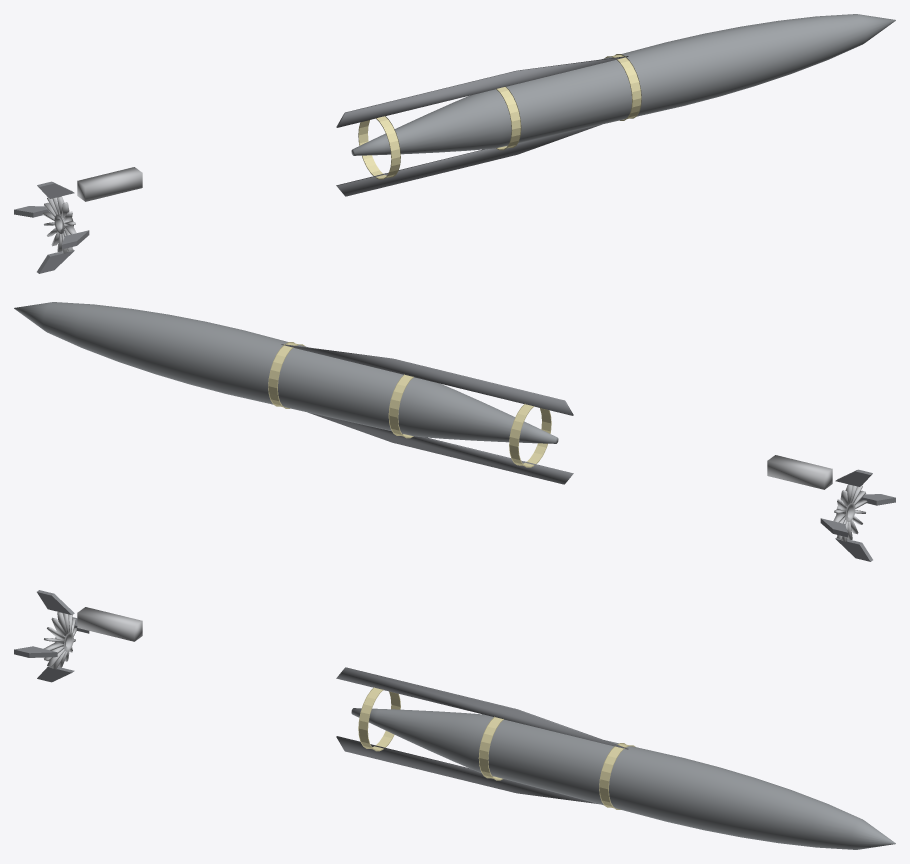
The model's file is RU_TORP_TEST71_LOD1.fbx.
The picture shows the model from 3 angles, top to bottom: view 1: azimuth 30°, elevation 25°; view 2: azimuth 150°, elevation 25°; view 3: azimuth 330°, elevation 25°; orthographic projection.
Visible parts, largest first — view 1: WPN_RU_TORP_TEST71_LOD1_Body, WPN_RU_TORP_TEST71_LOD1_Detail, WPN_RU_TORP_TEST71_LOD1_Marking, WPN_RU_TORP_TEST71_LOD1_Fins, WPN_RU_TORP_TEST71_LOD1_Propulsor; view 2: WPN_RU_TORP_TEST71_LOD1_Body, WPN_RU_TORP_TEST71_LOD1_Detail, WPN_RU_TORP_TEST71_LOD1_Marking, WPN_RU_TORP_TEST71_LOD1_Fins, WPN_RU_TORP_TEST71_LOD1_Propulsor; view 3: WPN_RU_TORP_TEST71_LOD1_Body, WPN_RU_TORP_TEST71_LOD1_Detail, WPN_RU_TORP_TEST71_LOD1_Marking, WPN_RU_TORP_TEST71_LOD1_Fins, WPN_RU_TORP_TEST71_LOD1_Propulsor.
Boxes of the visible parts, left/top/right/bottom form: WPN_RU_TORP_TEST71_LOD1_Body: left=351, top=14, right=895, bottom=155; WPN_RU_TORP_TEST71_LOD1_Detail: left=77, top=56, right=628, bottom=201; WPN_RU_TORP_TEST71_LOD1_Marking: left=358, top=54, right=641, bottom=179; WPN_RU_TORP_TEST71_LOD1_Fins: left=14, top=181, right=89, bottom=273; WPN_RU_TORP_TEST71_LOD1_Propulsor: left=42, top=196, right=76, bottom=253; WPN_RU_TORP_TEST71_LOD1_Body: left=14, top=302, right=558, bottom=443; WPN_RU_TORP_TEST71_LOD1_Detail: left=281, top=344, right=832, bottom=489; WPN_RU_TORP_TEST71_LOD1_Marking: left=268, top=342, right=551, bottom=467; WPN_RU_TORP_TEST71_LOD1_Fins: left=820, top=469, right=895, bottom=561; WPN_RU_TORP_TEST71_LOD1_Propulsor: left=833, top=484, right=867, bottom=541; WPN_RU_TORP_TEST71_LOD1_Body: left=351, top=708, right=895, bottom=849; WPN_RU_TORP_TEST71_LOD1_Detail: left=77, top=607, right=628, bottom=803; WPN_RU_TORP_TEST71_LOD1_Marking: left=358, top=687, right=635, bottom=809; WPN_RU_TORP_TEST71_LOD1_Fins: left=14, top=590, right=89, bottom=682; WPN_RU_TORP_TEST71_LOD1_Propulsor: left=43, top=612, right=76, bottom=669.
Bounding box in the file's own units: 7.98 × 0.7715 × 0.7715.
